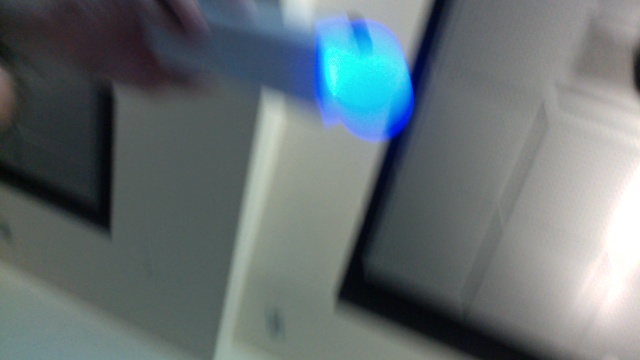wand: (325, 20, 412, 141)
